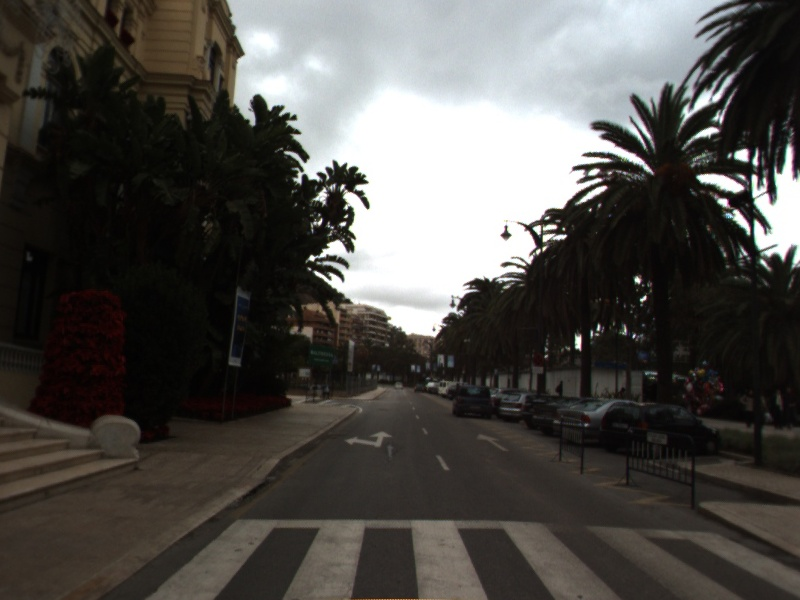STRAIGHT: (474, 431, 513, 454)
STRAIGHT_LEFT: (342, 429, 395, 450)
